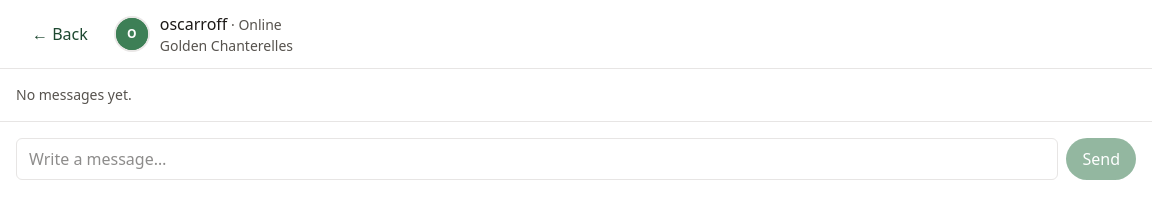
Test: MessageThread › a rejected send shows the server's reason
The image size is (1152, 224).
Type "hello" into the field labelled "message" at (537, 159), box [16, 138, 1058, 180]
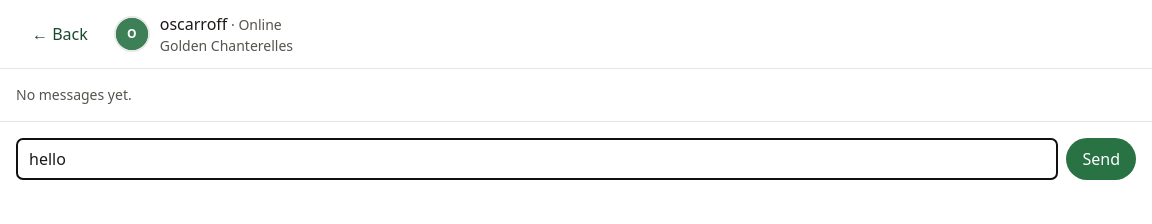
Click the button "Send" at (1101, 159), box [1066, 138, 1136, 180]
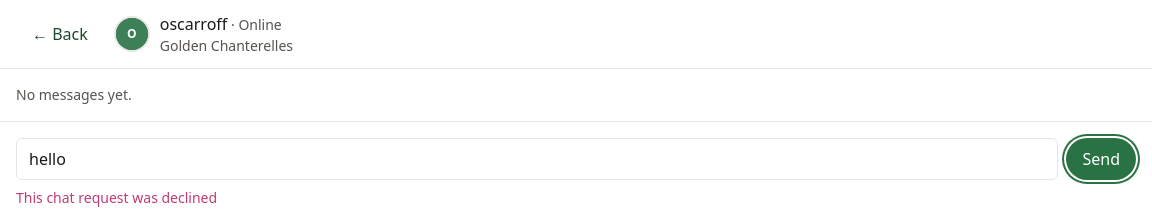
Check: the message reads "This chat request was declined", box [16, 188, 217, 207]
